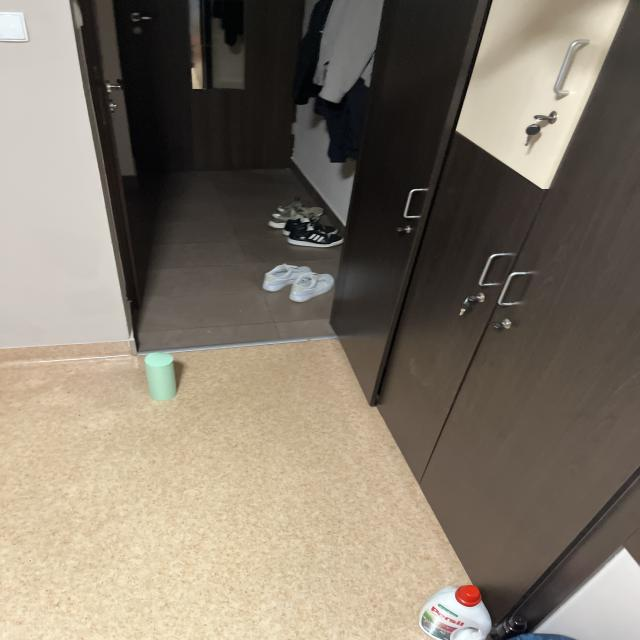meta: (145, 353, 177, 401)
